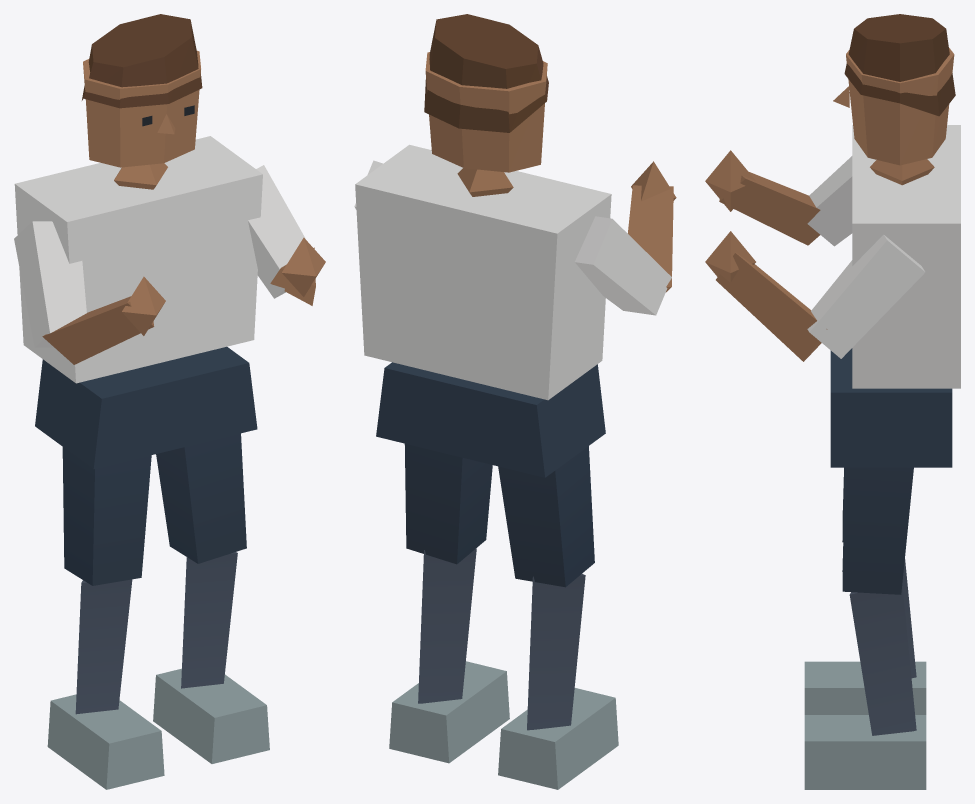
File: fan-09.glb
3 renders of one model, left to right at view 1: azimuth 30°, elevation 25°; view 2: azimuth 150°, elevation 25°; view 3: azimuth 270°, elevation 25°, orthographic. The views are drawn at different scales.
Visible parts, largest first — view 1: fan-09; view 2: fan-09; view 3: fan-09.
Part boxes in pixels (x1,y1,x2,y2): fan-09: (14, 14, 325, 789); fan-09: (354, 14, 676, 789); fan-09: (705, 14, 960, 789).
Bounding box in the file's own units: 0.7576 × 1.85 × 0.589.
